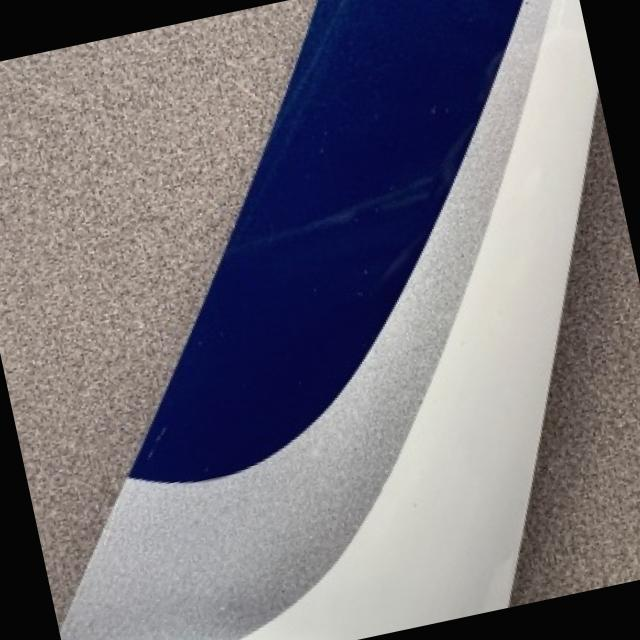healthy: (61, 0, 598, 640)
